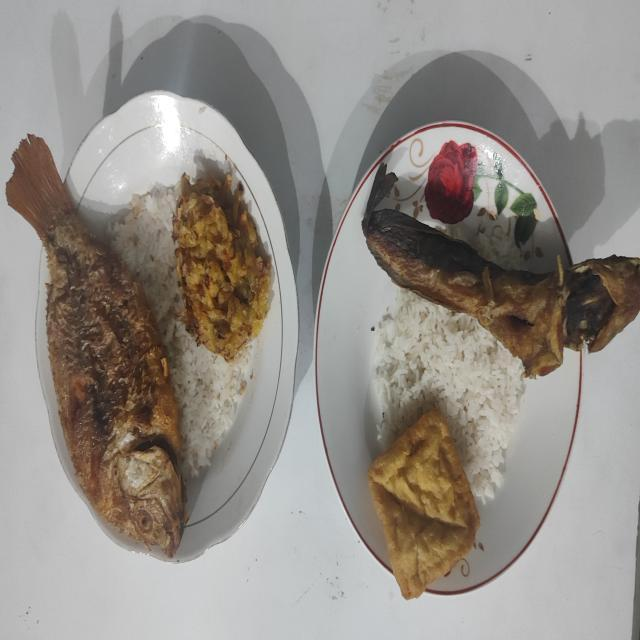ikan_mujair: (6, 135, 188, 558)
nasi_putih: (110, 187, 261, 478), (371, 290, 525, 503)
tahu_goreng: (368, 411, 479, 598)
